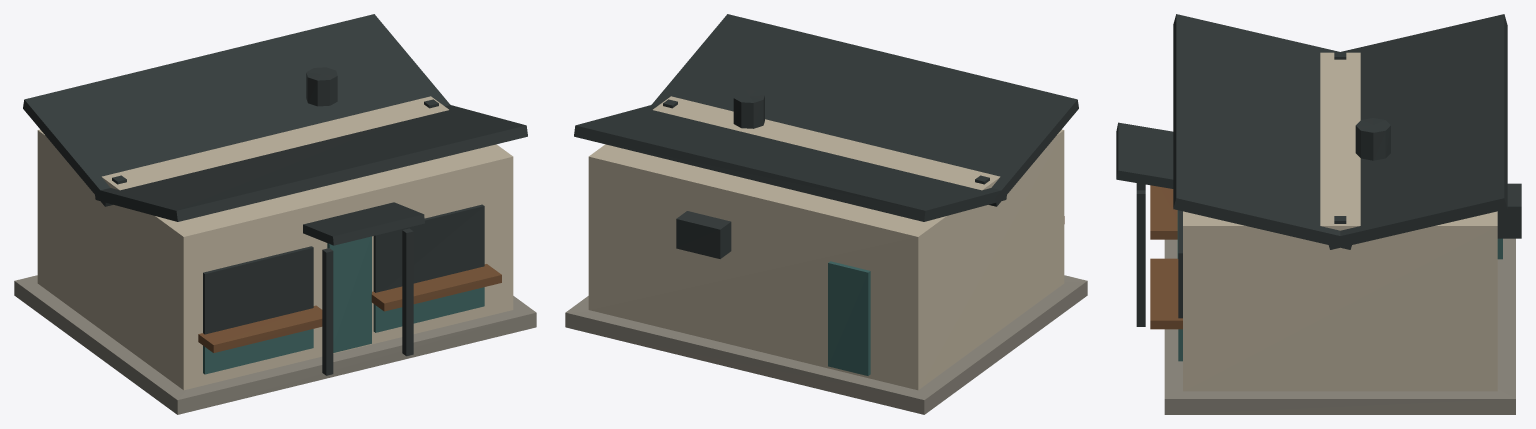
The model's file is Restaurant.glb.
3 views of the same model, side by side, from view 1: azimuth 30°, elevation 25°; view 2: azimuth 150°, elevation 25°; view 3: azimuth 270°, elevation 25° (orthographic). The views are drawn at different scales.
Parts seen in each view (by area): view 1: restaurant-static-restaurant-charcoal-roof-and-glazing, restaurant-static-restaurant-cream-walls, restaurant-static-restaurant-pale-stone, restaurant-static-restaurant-muted-teal-panels-and-doors, restaurant-static-restaurant-warm-timber-ledges; view 2: restaurant-static-restaurant-cream-walls, restaurant-static-restaurant-charcoal-roof-and-glazing, restaurant-static-restaurant-pale-stone, restaurant-static-restaurant-muted-teal-panels-and-doors; view 3: restaurant-static-restaurant-charcoal-roof-and-glazing, restaurant-static-restaurant-cream-walls, restaurant-static-restaurant-pale-stone, restaurant-static-restaurant-warm-timber-ledges, restaurant-static-restaurant-muted-teal-panels-and-doors.
Boxes of the visible parts, <box> form: restaurant-static-restaurant-charcoal-roof-and-glazing: <box>23,14,527,375</box>; restaurant-static-restaurant-cream-walls: <box>37,96,513,390</box>; restaurant-static-restaurant-pale-stone: <box>14,275,536,414</box>; restaurant-static-restaurant-muted-teal-panels-and-doors: <box>203,236,484,374</box>; restaurant-static-restaurant-warm-timber-ledges: <box>198,264,501,352</box>; restaurant-static-restaurant-cream-walls: <box>588,96,1064,390</box>; restaurant-static-restaurant-charcoal-roof-and-glazing: <box>574,14,1078,258</box>; restaurant-static-restaurant-pale-stone: <box>565,275,1087,414</box>; restaurant-static-restaurant-muted-teal-panels-and-doors: <box>828,261,870,375</box>; restaurant-static-restaurant-charcoal-roof-and-glazing: <box>1116,14,1521,326</box>; restaurant-static-restaurant-cream-walls: <box>1183,52,1497,391</box>; restaurant-static-restaurant-pale-stone: <box>1164,238,1515,414</box>; restaurant-static-restaurant-warm-timber-ledges: <box>1150,185,1182,329</box>; restaurant-static-restaurant-muted-teal-panels-and-doors: <box>1177,210,1502,361</box>.
Size of the model in its own units: 6.1 by 3.43 by 5.53.
